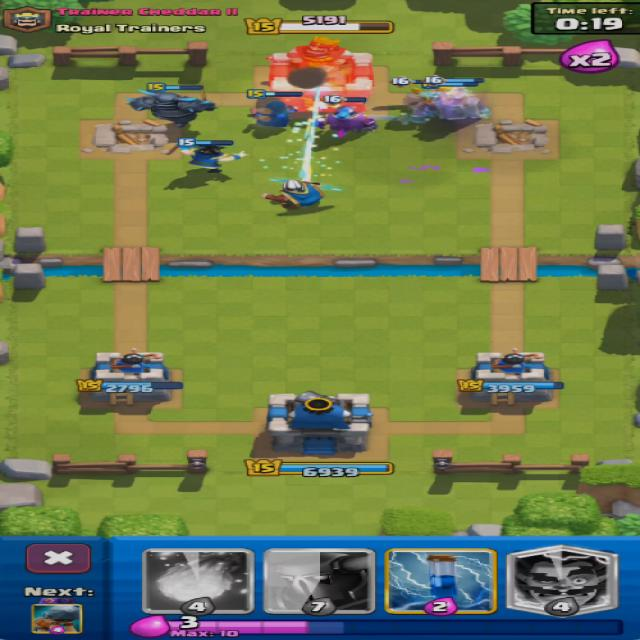Enemy-KingTower-Activated: (269, 36, 374, 110)
